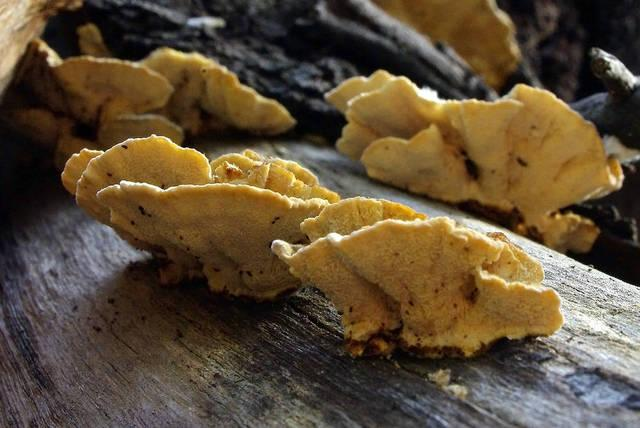Non-edible Mushroom: (61, 132, 564, 360), (312, 51, 631, 240), (8, 5, 305, 162), (270, 210, 564, 361)
